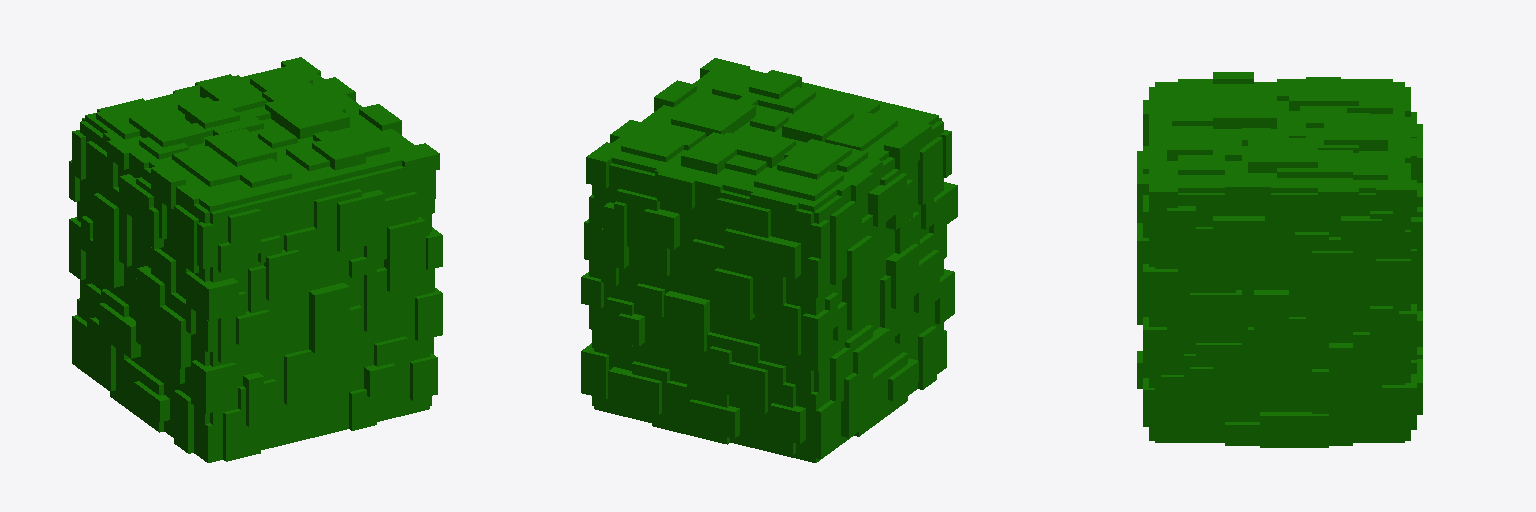
3 views of the same model, side by side, from view 1: azimuth 30°, elevation 25°; view 2: azimuth 150°, elevation 25°; view 3: azimuth 270°, elevation 25° (orthographic).
Visible parts, largest first — view 1: object 1; view 2: object 1; view 3: object 1.
Part boxes in pixels (x1,y1,x2,y2): object 1: (69, 57, 442, 462); object 1: (581, 58, 957, 462); object 1: (1137, 72, 1422, 447).
Bounding box in the file's own units: 4.9 × 5 × 4.9.
Materials: 1 (1 with a texture image).